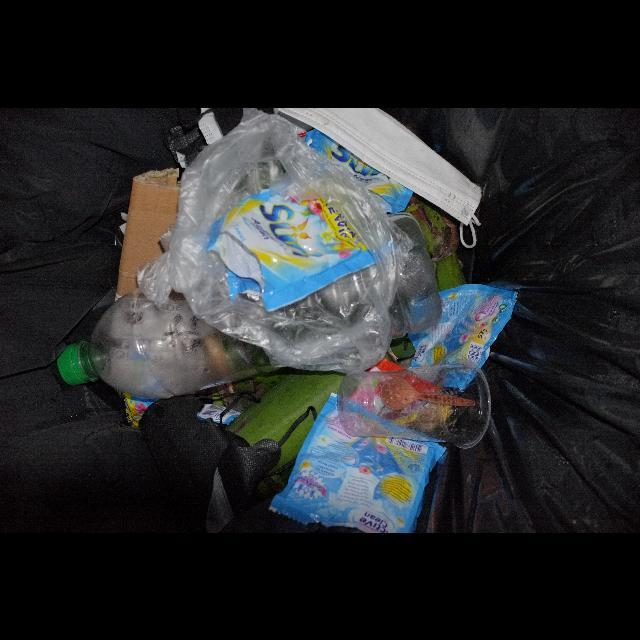paper: (115, 167, 180, 301)
plastic: (136, 114, 395, 374), (57, 287, 281, 398)
wrapper: (269, 392, 447, 532), (206, 188, 375, 311), (407, 283, 518, 391)
